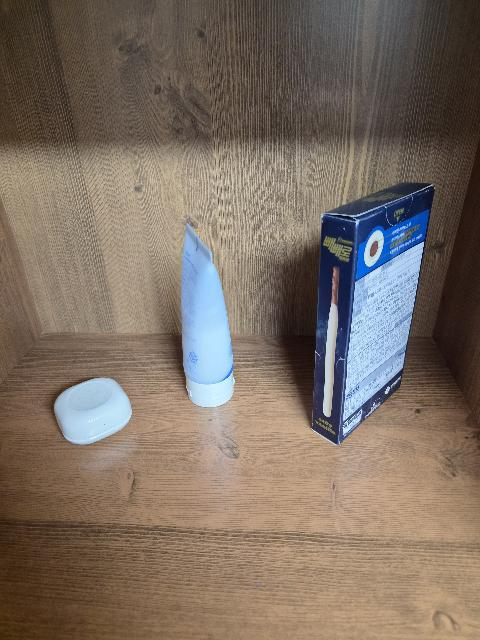earphone_case: (54, 377, 132, 445)
handcream: (181, 223, 235, 408)
pepero: (311, 182, 435, 446)
